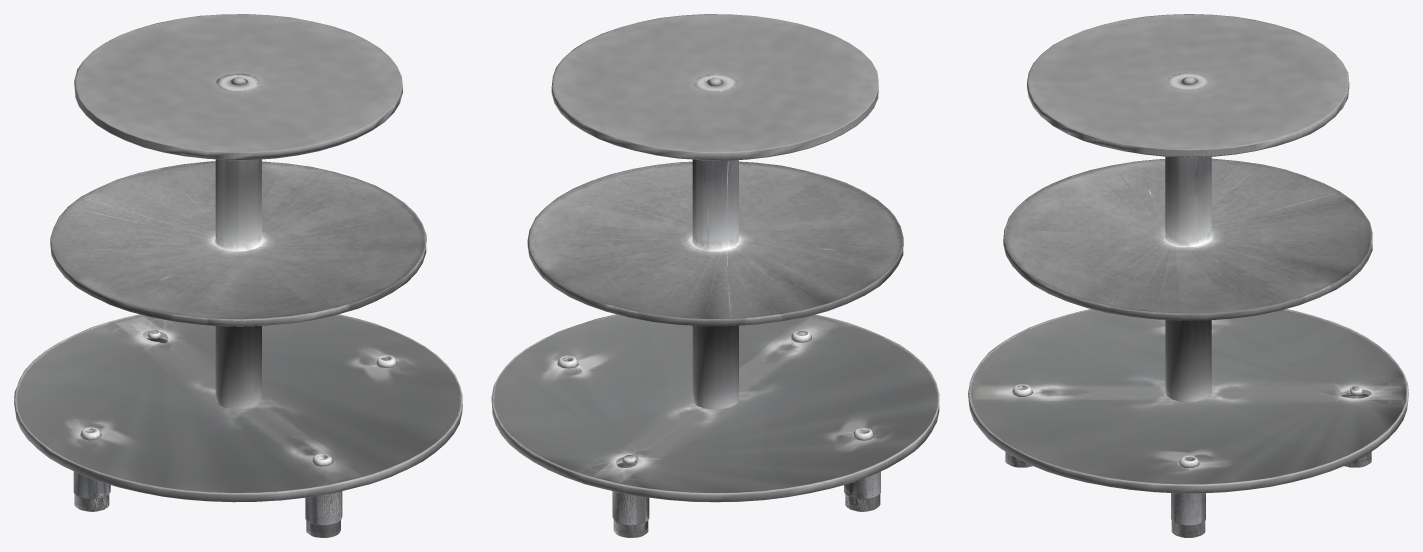
Rendered from cupcake_stand_0126181242_texture.glb.
3 views of the same model, side by side, from view 1: azimuth 30°, elevation 25°; view 2: azimuth 150°, elevation 25°; view 3: azimuth 270°, elevation 25° (orthographic).
Parts seen in each view (by area): view 1: Mesh_0; view 2: Mesh_0; view 3: Mesh_0.
Boxes of the visible parts, box(x1,y1,x2,y2) form: Mesh_0: box(14, 14, 462, 537); Mesh_0: box(491, 14, 939, 537); Mesh_0: box(968, 14, 1408, 537).
Bounding box in the file's own units: 0.6357 × 0.6096 × 0.6357.
Materials: 1 (1 with a texture image).
